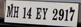character: (12, 5, 19, 18), (6, 5, 13, 17), (35, 7, 42, 19), (41, 7, 48, 19), (51, 8, 58, 20), (69, 8, 75, 21), (26, 7, 32, 19), (58, 8, 64, 20), (64, 8, 69, 21), (21, 6, 26, 18)
